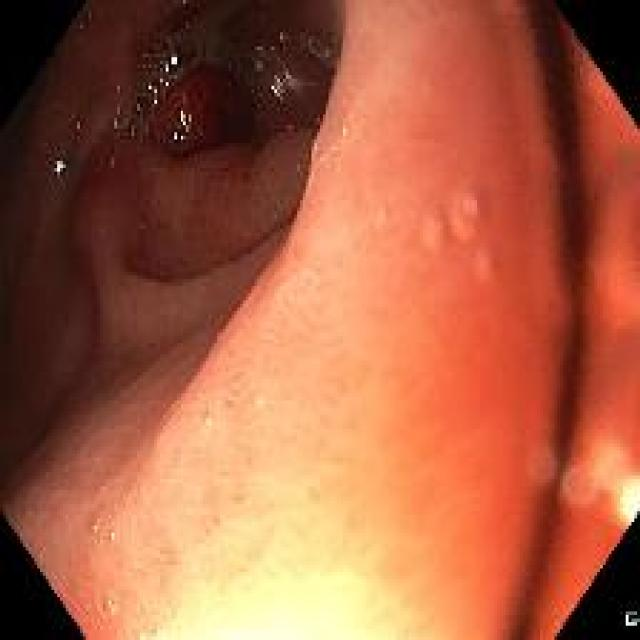bubbles: (133, 25, 205, 121), (207, 35, 265, 103), (72, 8, 99, 49), (71, 84, 100, 117), (101, 590, 122, 619), (120, 484, 140, 510), (143, 122, 162, 146), (103, 526, 120, 548), (51, 98, 65, 118), (127, 119, 140, 136), (86, 514, 95, 532)
color misalignment: (521, 9, 589, 622), (536, 432, 632, 511), (270, 69, 310, 100), (310, 36, 335, 69)
contrast: (0, 2, 329, 416)
saturation: (139, 557, 399, 633)
specularity: (618, 473, 637, 523), (143, 80, 163, 108), (163, 47, 178, 79), (178, 108, 193, 132), (108, 150, 121, 172), (160, 73, 173, 93), (111, 114, 122, 136), (55, 160, 64, 175), (106, 598, 115, 610), (173, 130, 182, 141), (109, 532, 117, 543)
